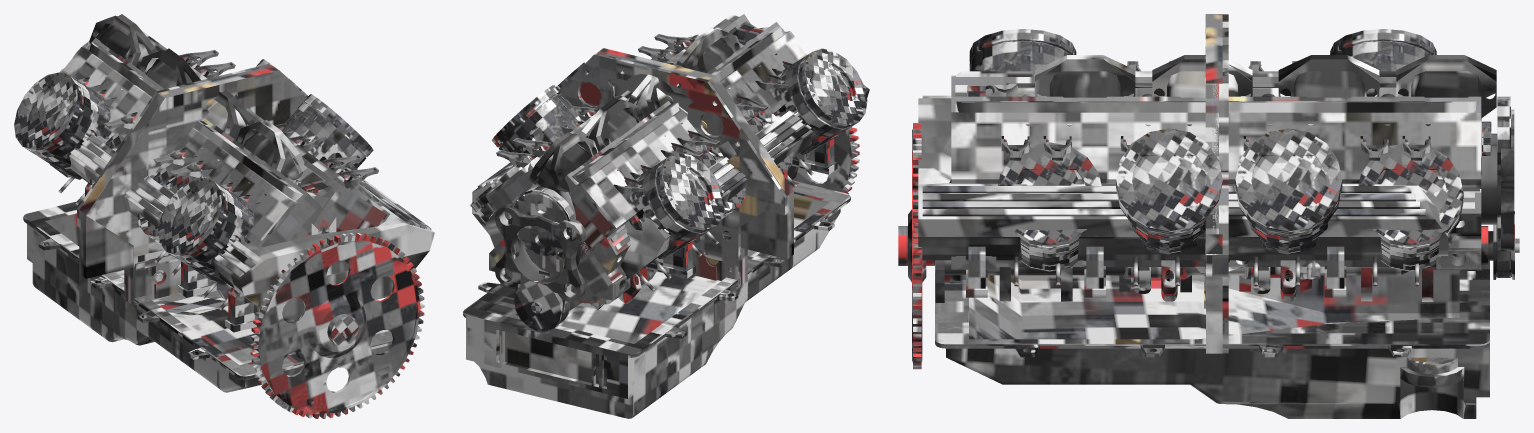
The model's file is v8-engine.glb.
3 renders of one model, left to right at view 1: azimuth 30°, elevation 25°; view 2: azimuth 150°, elevation 25°; view 3: azimuth 270°, elevation 25°, orthographic. The views are drawn at different scales.
Visible parts, largest first — view 1: gear_lambert2_0, oilPan_lambert2_0, throttleBody_lambert2_0, engineBlockFront_lambert2_0, cylinderHeadLeft_lambert2_0, engineBackCover_lambert2_0, piston008_lambert2_0, piston002_lambert2_0, intakeManifoldRight_lambert2_0, piston005_lambert2_0, intakeManifoldleft_lambert2_0, engineBlockCylinderLeft_lambert2_0 (+8 smaller); view 2: oilPan_lambert2_0, cylinderHeadLeft_lambert2_0, throttleBody_lambert2_0, engineBlockFront_lambert2_0, engineBackCover_lambert2_0, piston002_lambert2_0, piston008_lambert2_0, intakeManifoldRight_lambert2_0, intakeManifoldleft_lambert2_0, engineBlockCylinderRight_lambert2_0, piston003_lambert2_0, engineBlockCylinderLeft_lambert2_0 (+12 smaller); view 3: oilPan_lambert2_0, throttleBody_lambert2_0, cylinderHeadRight_lambert2_0, piston003_lambert2_0, piston005_lambert2_0, intakeManifoldleft_lambert2_0, intakeManifoldRight_lambert2_0, piston001_lambert2_0, piston007_lambert2_0, cylinderHeadLeft_lambert2_0, engineBlockFront_lambert2_0, crankshaft_lambert2_0 (+12 smaller).
Part boxes in pixels (x1,y1,x2,y2): gear_lambert2_0: (250, 233, 424, 418); oilPan_lambert2_0: (23, 201, 392, 392); throttleBody_lambert2_0: (60, 68, 434, 321); engineBlockFront_lambert2_0: (77, 63, 306, 299); cylinderHeadLeft_lambert2_0: (61, 42, 328, 247); engineBackCover_lambert2_0: (79, 65, 357, 305); piston008_lambert2_0: (158, 178, 254, 285); piston002_lambert2_0: (14, 72, 110, 179); intakeManifoldRight_lambert2_0: (99, 14, 306, 175); piston005_lambert2_0: (282, 94, 373, 170); intakeManifoldleft_lambert2_0: (89, 15, 304, 359); engineBlockCylinderLeft_lambert2_0: (87, 38, 339, 247); oilPan_lambert2_0: (463, 180, 850, 418); cylinderHeadLeft_lambert2_0: (485, 26, 808, 277); throttleBody_lambert2_0: (472, 34, 869, 301); engineBlockFront_lambert2_0: (559, 48, 787, 287); engineBackCover_lambert2_0: (580, 48, 793, 285); piston002_lambert2_0: (625, 153, 724, 296); piston008_lambert2_0: (772, 48, 867, 154); intakeManifoldRight_lambert2_0: (528, 27, 733, 259); intakeManifoldleft_lambert2_0: (531, 29, 798, 244); engineBlockCylinderRight_lambert2_0: (488, 14, 809, 310); piston003_lambert2_0: (491, 85, 584, 158); engineBlockCylinderLeft_lambert2_0: (489, 22, 784, 277); oilPan_lambert2_0: (935, 260, 1489, 418); throttleBody_lambert2_0: (918, 95, 1514, 260); cylinderHeadRight_lambert2_0: (951, 101, 1481, 188); piston003_lambert2_0: (1235, 128, 1342, 293); piston005_lambert2_0: (1116, 128, 1222, 293); intakeManifoldleft_lambert2_0: (1035, 55, 1496, 175); intakeManifoldRight_lambert2_0: (935, 59, 1496, 302); piston001_lambert2_0: (1358, 142, 1463, 271); piston007_lambert2_0: (998, 142, 1101, 271); cylinderHeadLeft_lambert2_0: (951, 71, 1481, 266); engineBlockFront_lambert2_0: (1204, 14, 1228, 353); crankshaft_lambert2_0: (898, 226, 1519, 301).
Bounding box in the file's own units: 0.6007 × 0.5566 × 0.95.
1 material, 1 textured.
